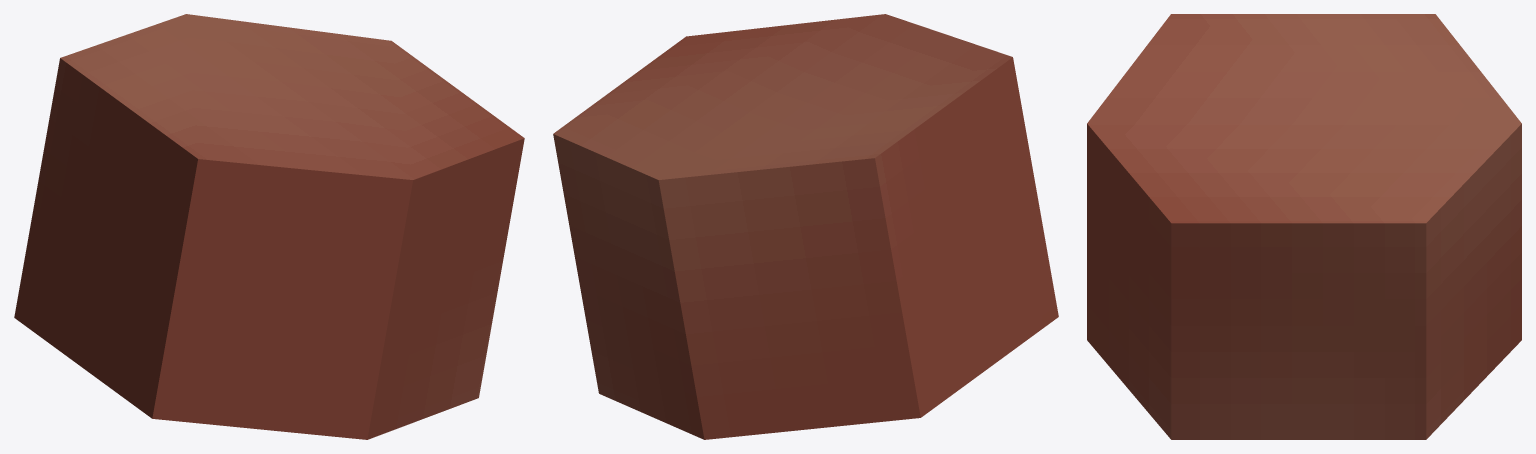
The model's file is bigredbutton.glb.
The picture shows the model from 3 angles, left to right: view 1: azimuth 30°, elevation 25°; view 2: azimuth 150°, elevation 25°; view 3: azimuth 270°, elevation 25°; orthographic projection. The views are drawn at different scales.
Parts seen in each view (by area): view 1: Cube.008; view 2: Cube.008; view 3: Cube.008.
Boxes of the visible parts, x1,y1,x2,y2 form: Cube.008: (14, 14, 524, 439); Cube.008: (553, 14, 1058, 439); Cube.008: (1087, 14, 1521, 439).
Size of the model in its own units: 0.3003 by 0.237 by 0.3169.
Materials: 1 (1 with a texture image).
